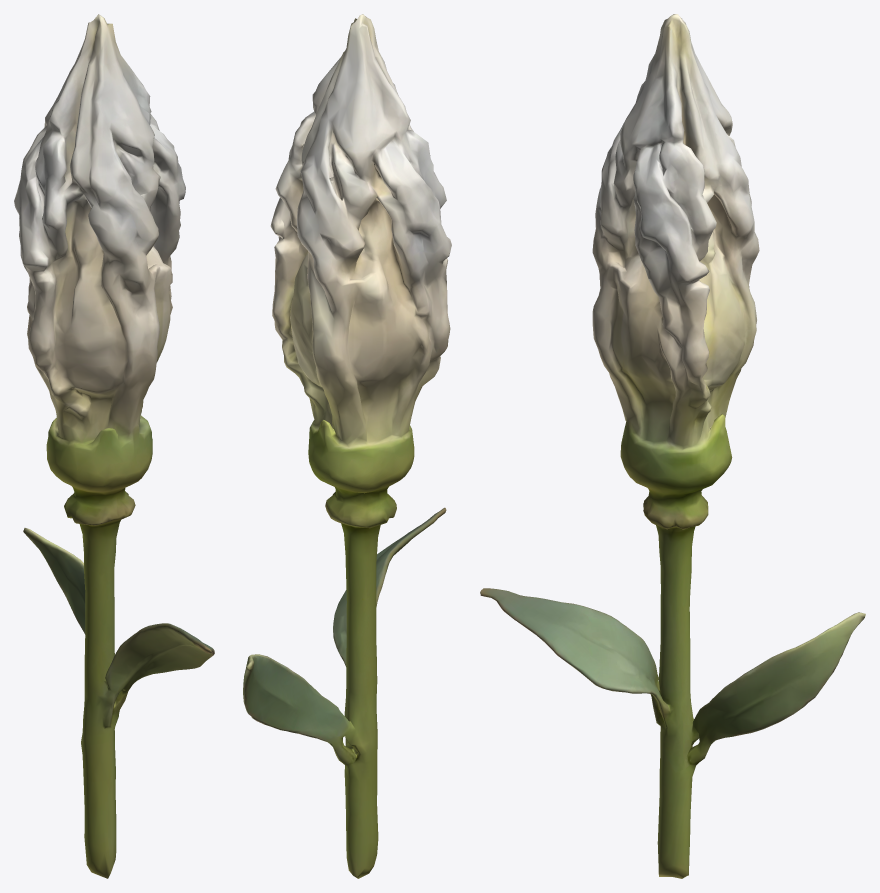
The model's file is moon-bud.glb.
The picture shows the model from 3 angles, left to right: view 1: azimuth 30°, elevation 25°; view 2: azimuth 150°, elevation 25°; view 3: azimuth 270°, elevation 25°; orthographic projection.
Parts seen in each view (by area): view 1: tripo_node_01a22140-0bf4-78b4-9d4e-832663fffb3f; view 2: tripo_node_01a22140-0bf4-78b4-9d4e-832663fffb3f; view 3: tripo_node_01a22140-0bf4-78b4-9d4e-832663fffb3f.
Part boxes in pixels (x1,y1,x2,y2): tripo_node_01a22140-0bf4-78b4-9d4e-832663fffb3f: (14, 14, 214, 878); tripo_node_01a22140-0bf4-78b4-9d4e-832663fffb3f: (243, 14, 451, 878); tripo_node_01a22140-0bf4-78b4-9d4e-832663fffb3f: (480, 14, 865, 878).
Bounding box in the file's own units: 0.2004 × 1 × 0.4052.
1 material, 1 textured.
